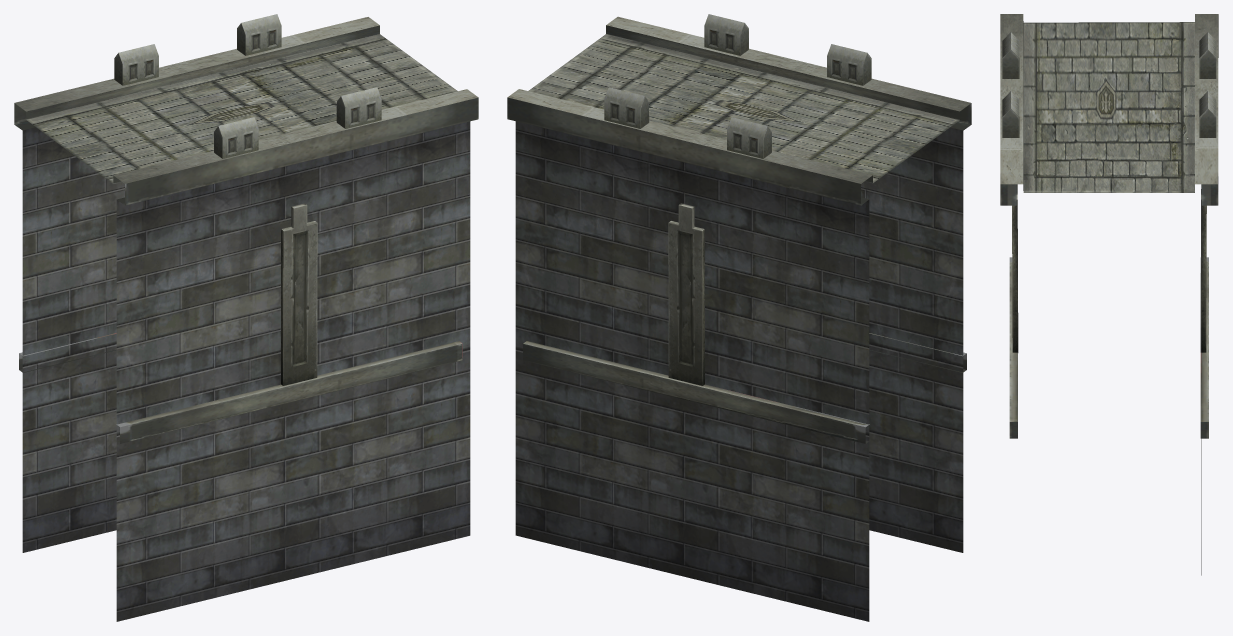
The model's file is SC_guowangchengbao_17.FBX.
The picture shows the model from 3 angles, left to right: view 1: azimuth 30°, elevation 25°; view 2: azimuth 150°, elevation 25°; view 3: azimuth 270°, elevation 25°; orthographic projection.
Visible parts, largest first — view 1: SC_guowangchengbao_17; view 2: SC_guowangchengbao_17; view 3: SC_guowangchengbao_17.
Part boxes in pixels (<box>): SC_guowangchengbao_17: <box>14,14,478,621</box>; SC_guowangchengbao_17: <box>507,14,971,621</box>; SC_guowangchengbao_17: <box>1000,14,1218,575</box>.
Bounding box in the file's own units: 1009 × 1292 × 546.
